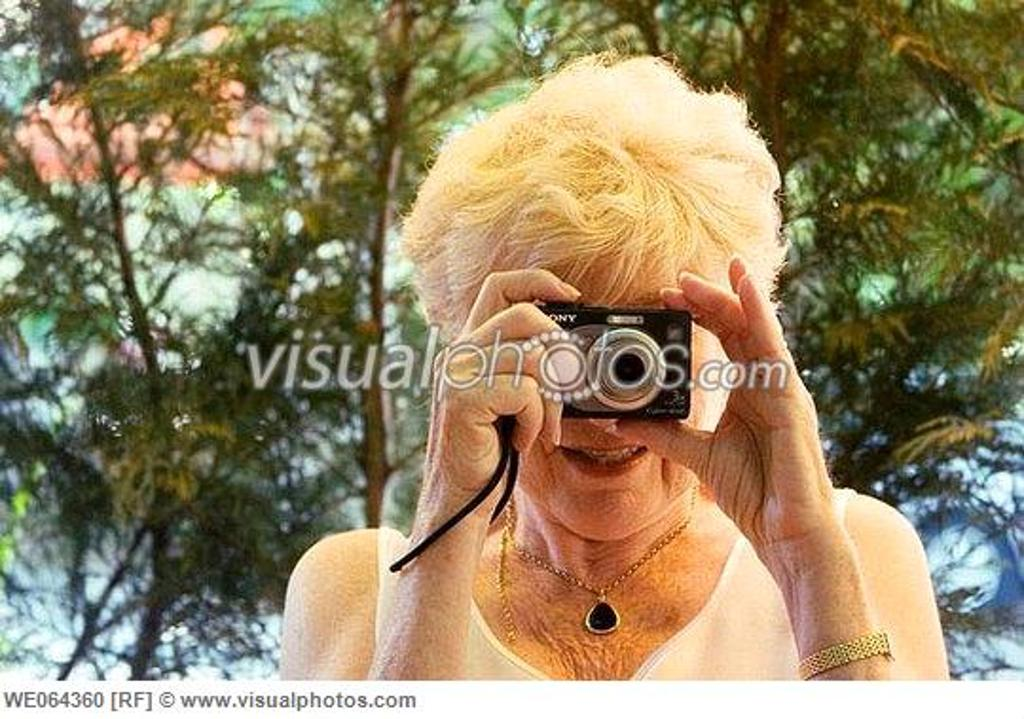face: (504, 228, 728, 544)
